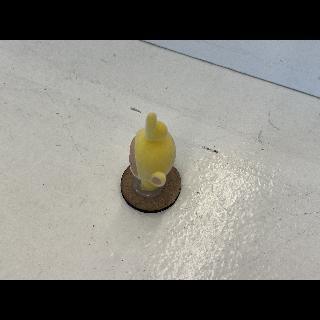teletubby: (129, 113, 176, 191)
